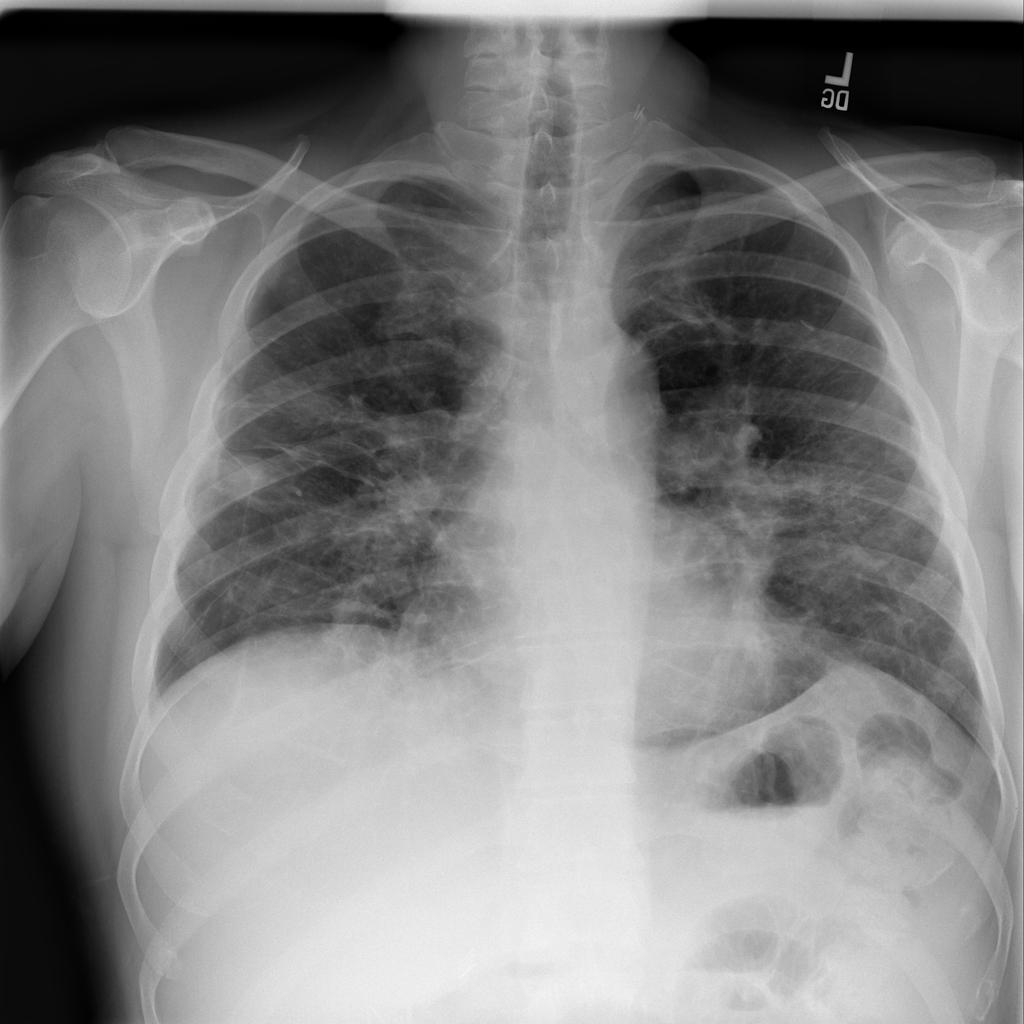nodule: (210, 440, 289, 513)
